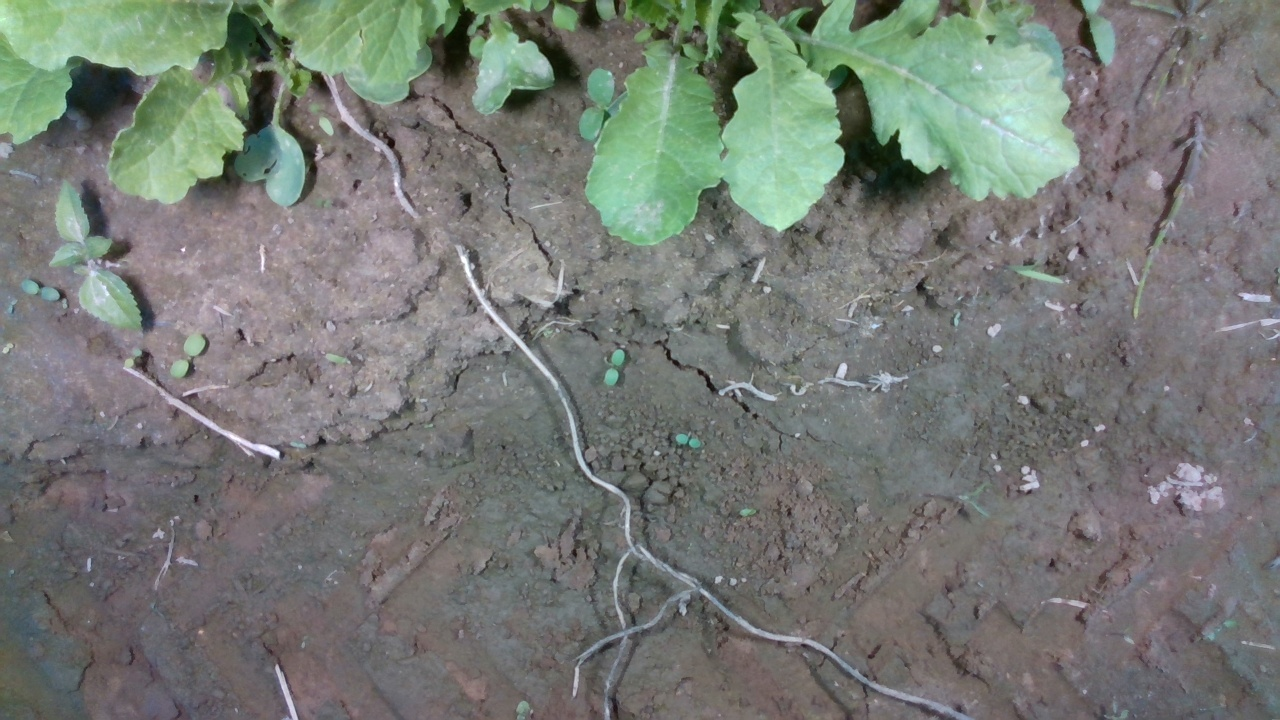weed: (5, 297, 18, 316)
